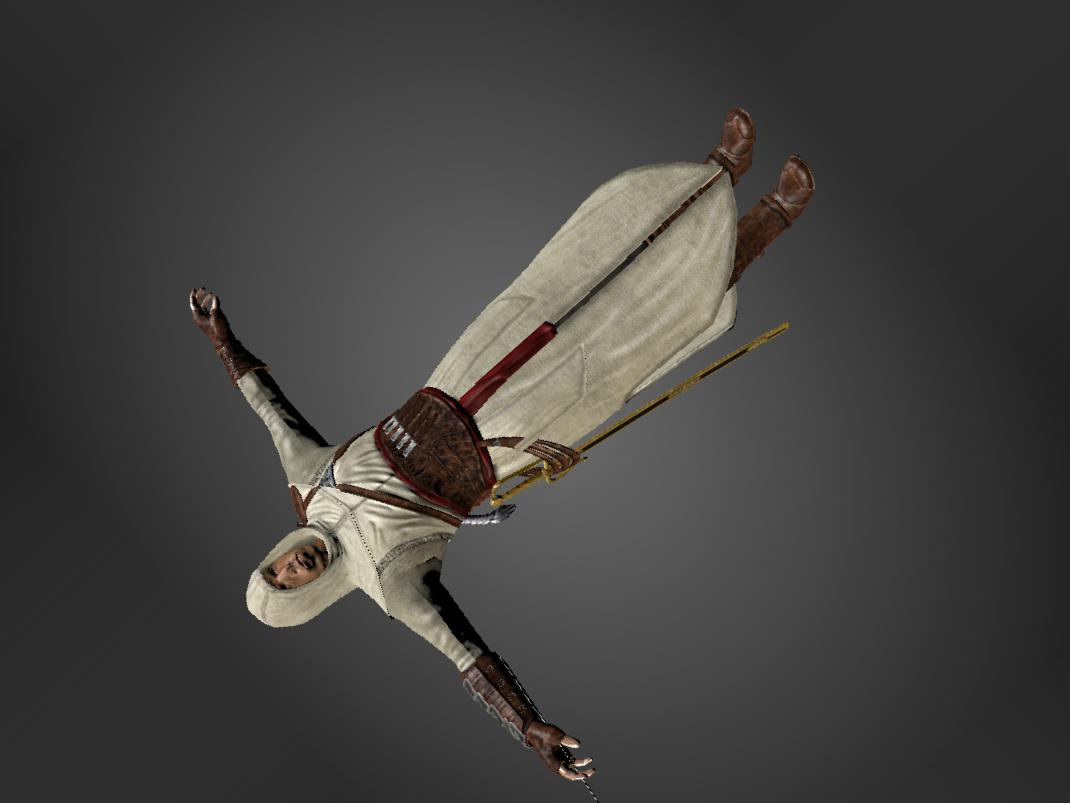clip: (514, 431, 538, 456)
